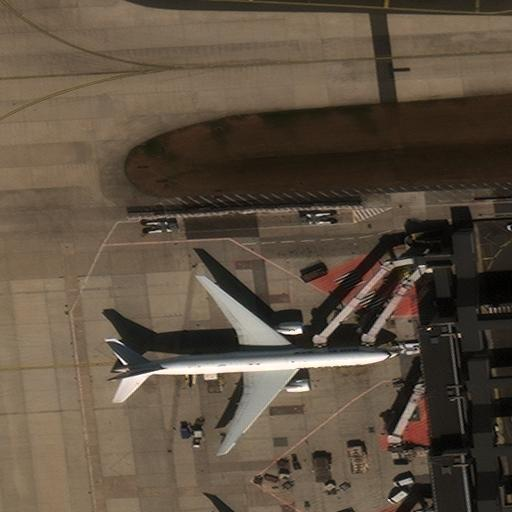Large Civil Transport: (107, 275, 398, 453)
